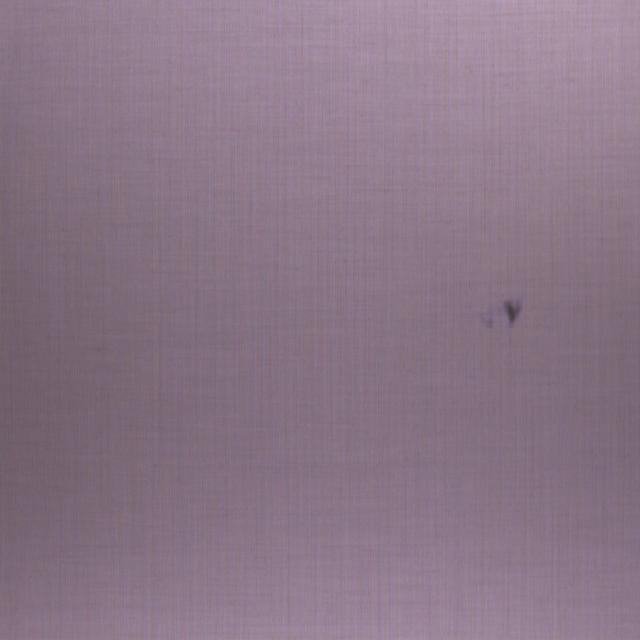dirty: (507, 302, 521, 327), (483, 315, 495, 333)
